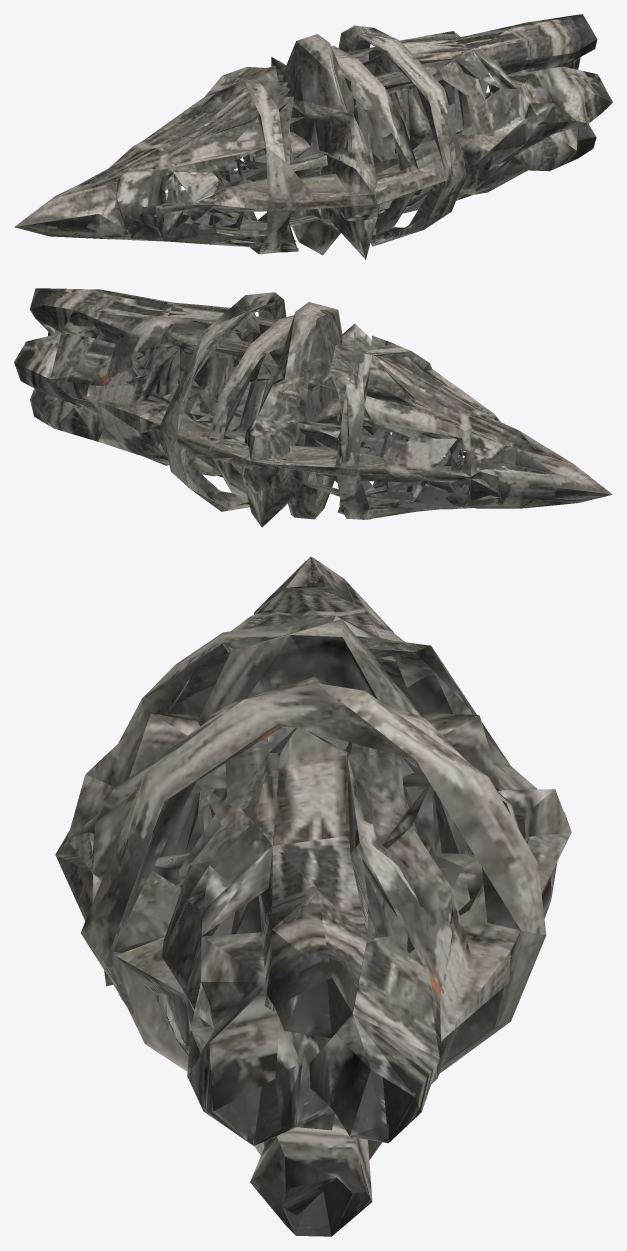
File: monument_shattered_world_ship.glb
3 renders of one model, top to bottom at view 1: azimuth 30°, elevation 25°; view 2: azimuth 150°, elevation 25°; view 3: azimuth 270°, elevation 25°, orthographic. The views are drawn at different scales.
Size of the model in its own units: 1.9 by 0.6726 by 0.7387.
1 material, 1 textured.
